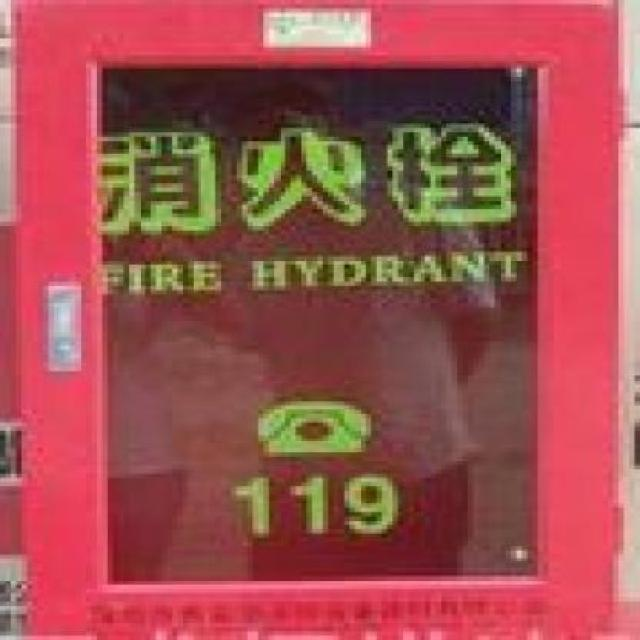firehydrant: (4, 0, 636, 640)
